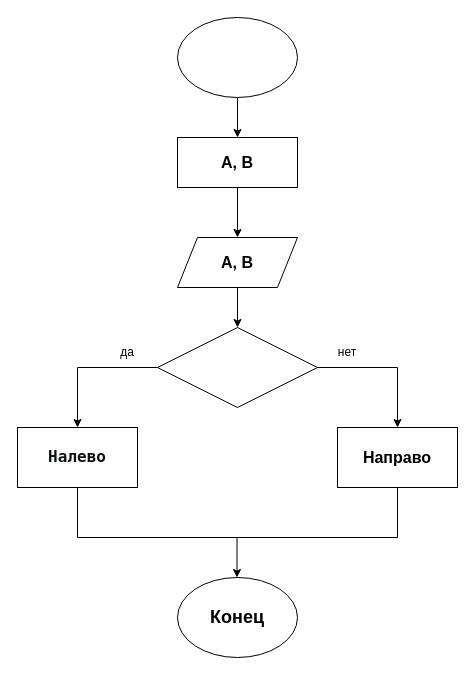
The diagram is 475 pixels wide and 675 high, and some of its shapes have lost their labels. The shapes that lost their labels are listed below. From the top down, each one's centre as x and y in pixels, then its label:
At (x=237, y=57): "Начало".
At (x=237, y=367): "A % 2 != B % 2".
